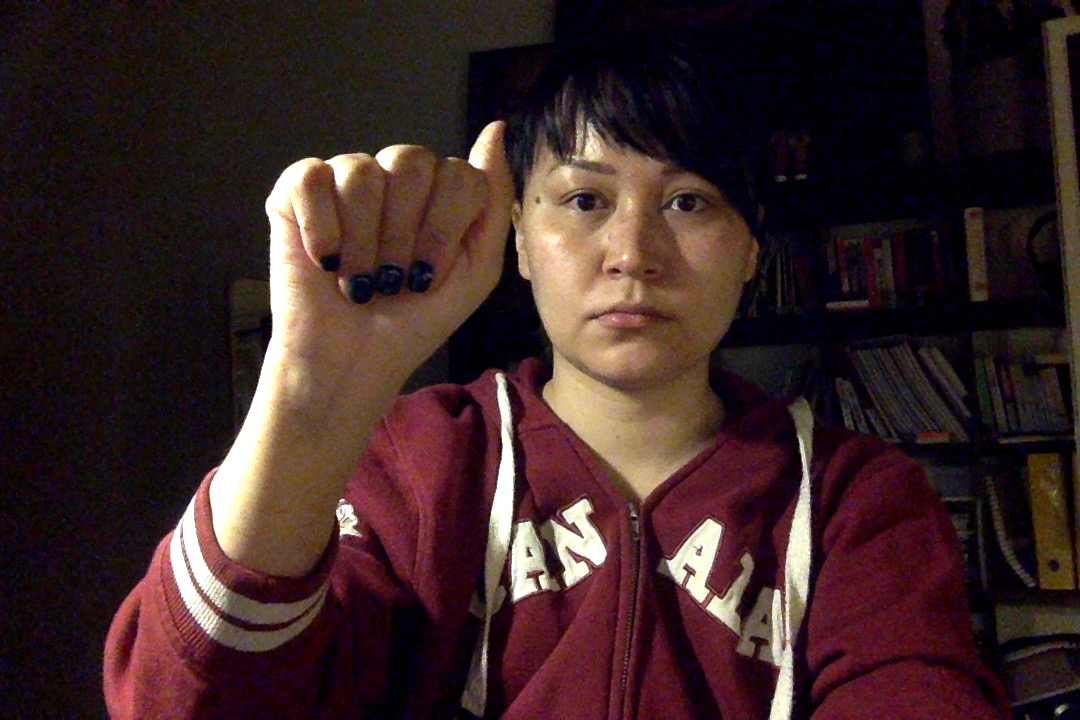a: (229, 105, 536, 439)
